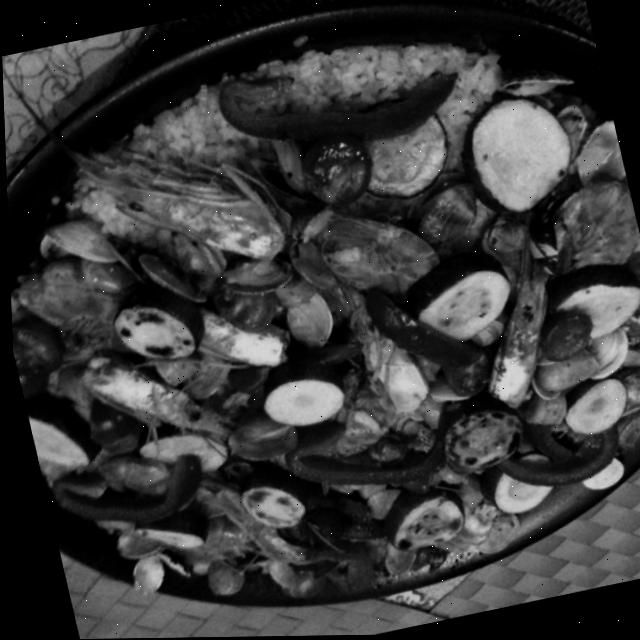熟制海鲜: (246, 300, 477, 553)
